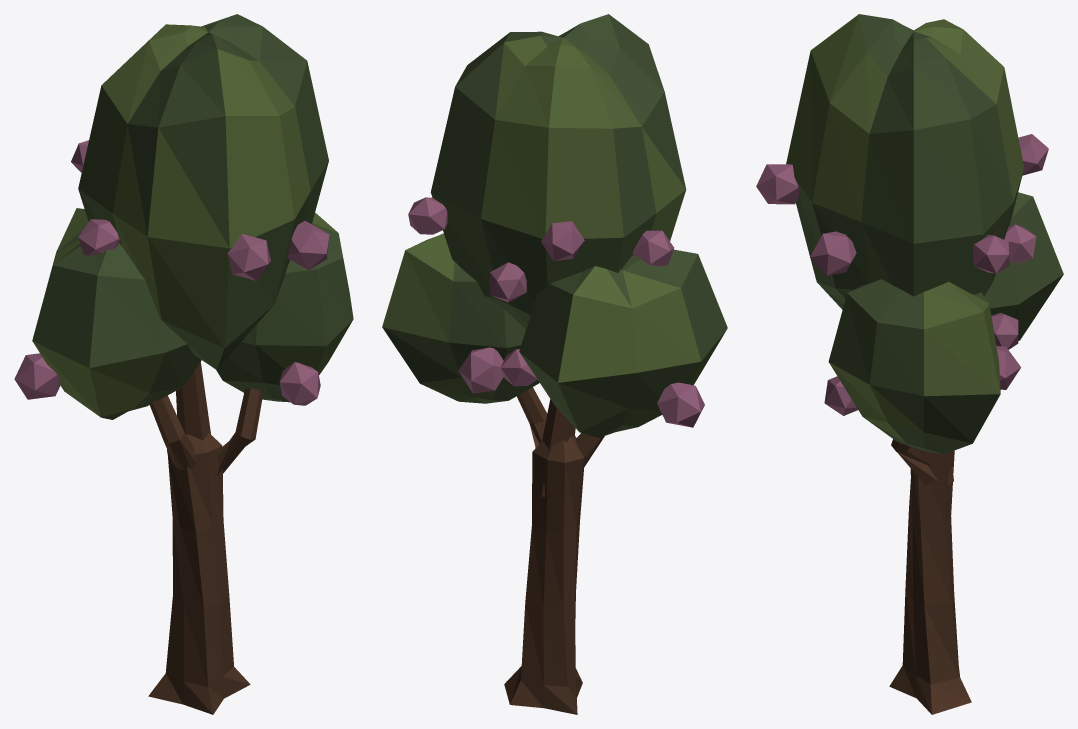
Rendered from plum-tree-565179.glb.
3 renders of one model, left to right at view 1: azimuth 30°, elevation 25°; view 2: azimuth 150°, elevation 25°; view 3: azimuth 270°, elevation 25°, orthographic. The views are drawn at different scales.
Visible parts, largest first — view 1: plum-tree-mesh, fruit-6, fruit-4, fruit-1, fruit-8, fruit-2; view 2: plum-tree-mesh, fruit-6, fruit-9, fruit-5, fruit-3, fruit-0, fruit-2, fruit-7; view 3: plum-tree-mesh, fruit-1, fruit-4, fruit-3, fruit-0, fruit-5, fruit-7, fruit-8, fruit-9.
Part boxes in pixels (bbox=[...]): plum-tree-mesh: bbox=[32, 14, 353, 714]; fruit-6: bbox=[14, 353, 60, 399]; fruit-4: bbox=[227, 234, 270, 280]; fruit-1: bbox=[287, 221, 329, 269]; fruit-8: bbox=[279, 362, 320, 405]; fruit-2: bbox=[78, 219, 119, 255]; plum-tree-mesh: bbox=[382, 14, 727, 714]; fruit-6: bbox=[657, 382, 704, 427]; fruit-9: bbox=[458, 347, 503, 393]; fruit-5: bbox=[541, 221, 584, 260]; fruit-3: bbox=[408, 197, 447, 234]; fruit-0: bbox=[490, 262, 526, 302]; fruit-2: bbox=[632, 230, 673, 266]; fruit-7: bbox=[500, 349, 537, 386]; plum-tree-mesh: bbox=[786, 14, 1063, 714]; fruit-1: bbox=[810, 231, 856, 275]; fruit-4: bbox=[756, 164, 798, 204]; fruit-3: bbox=[973, 234, 1009, 273]; fruit-0: bbox=[1004, 224, 1036, 263]; fruit-5: bbox=[1018, 134, 1048, 175]; fruit-7: bbox=[991, 313, 1018, 349]; fruit-8: bbox=[824, 376, 857, 415]; fruit-9: bbox=[996, 346, 1020, 389].
Bounding box in the file's own units: 1.45 × 3.01 × 1.26.
